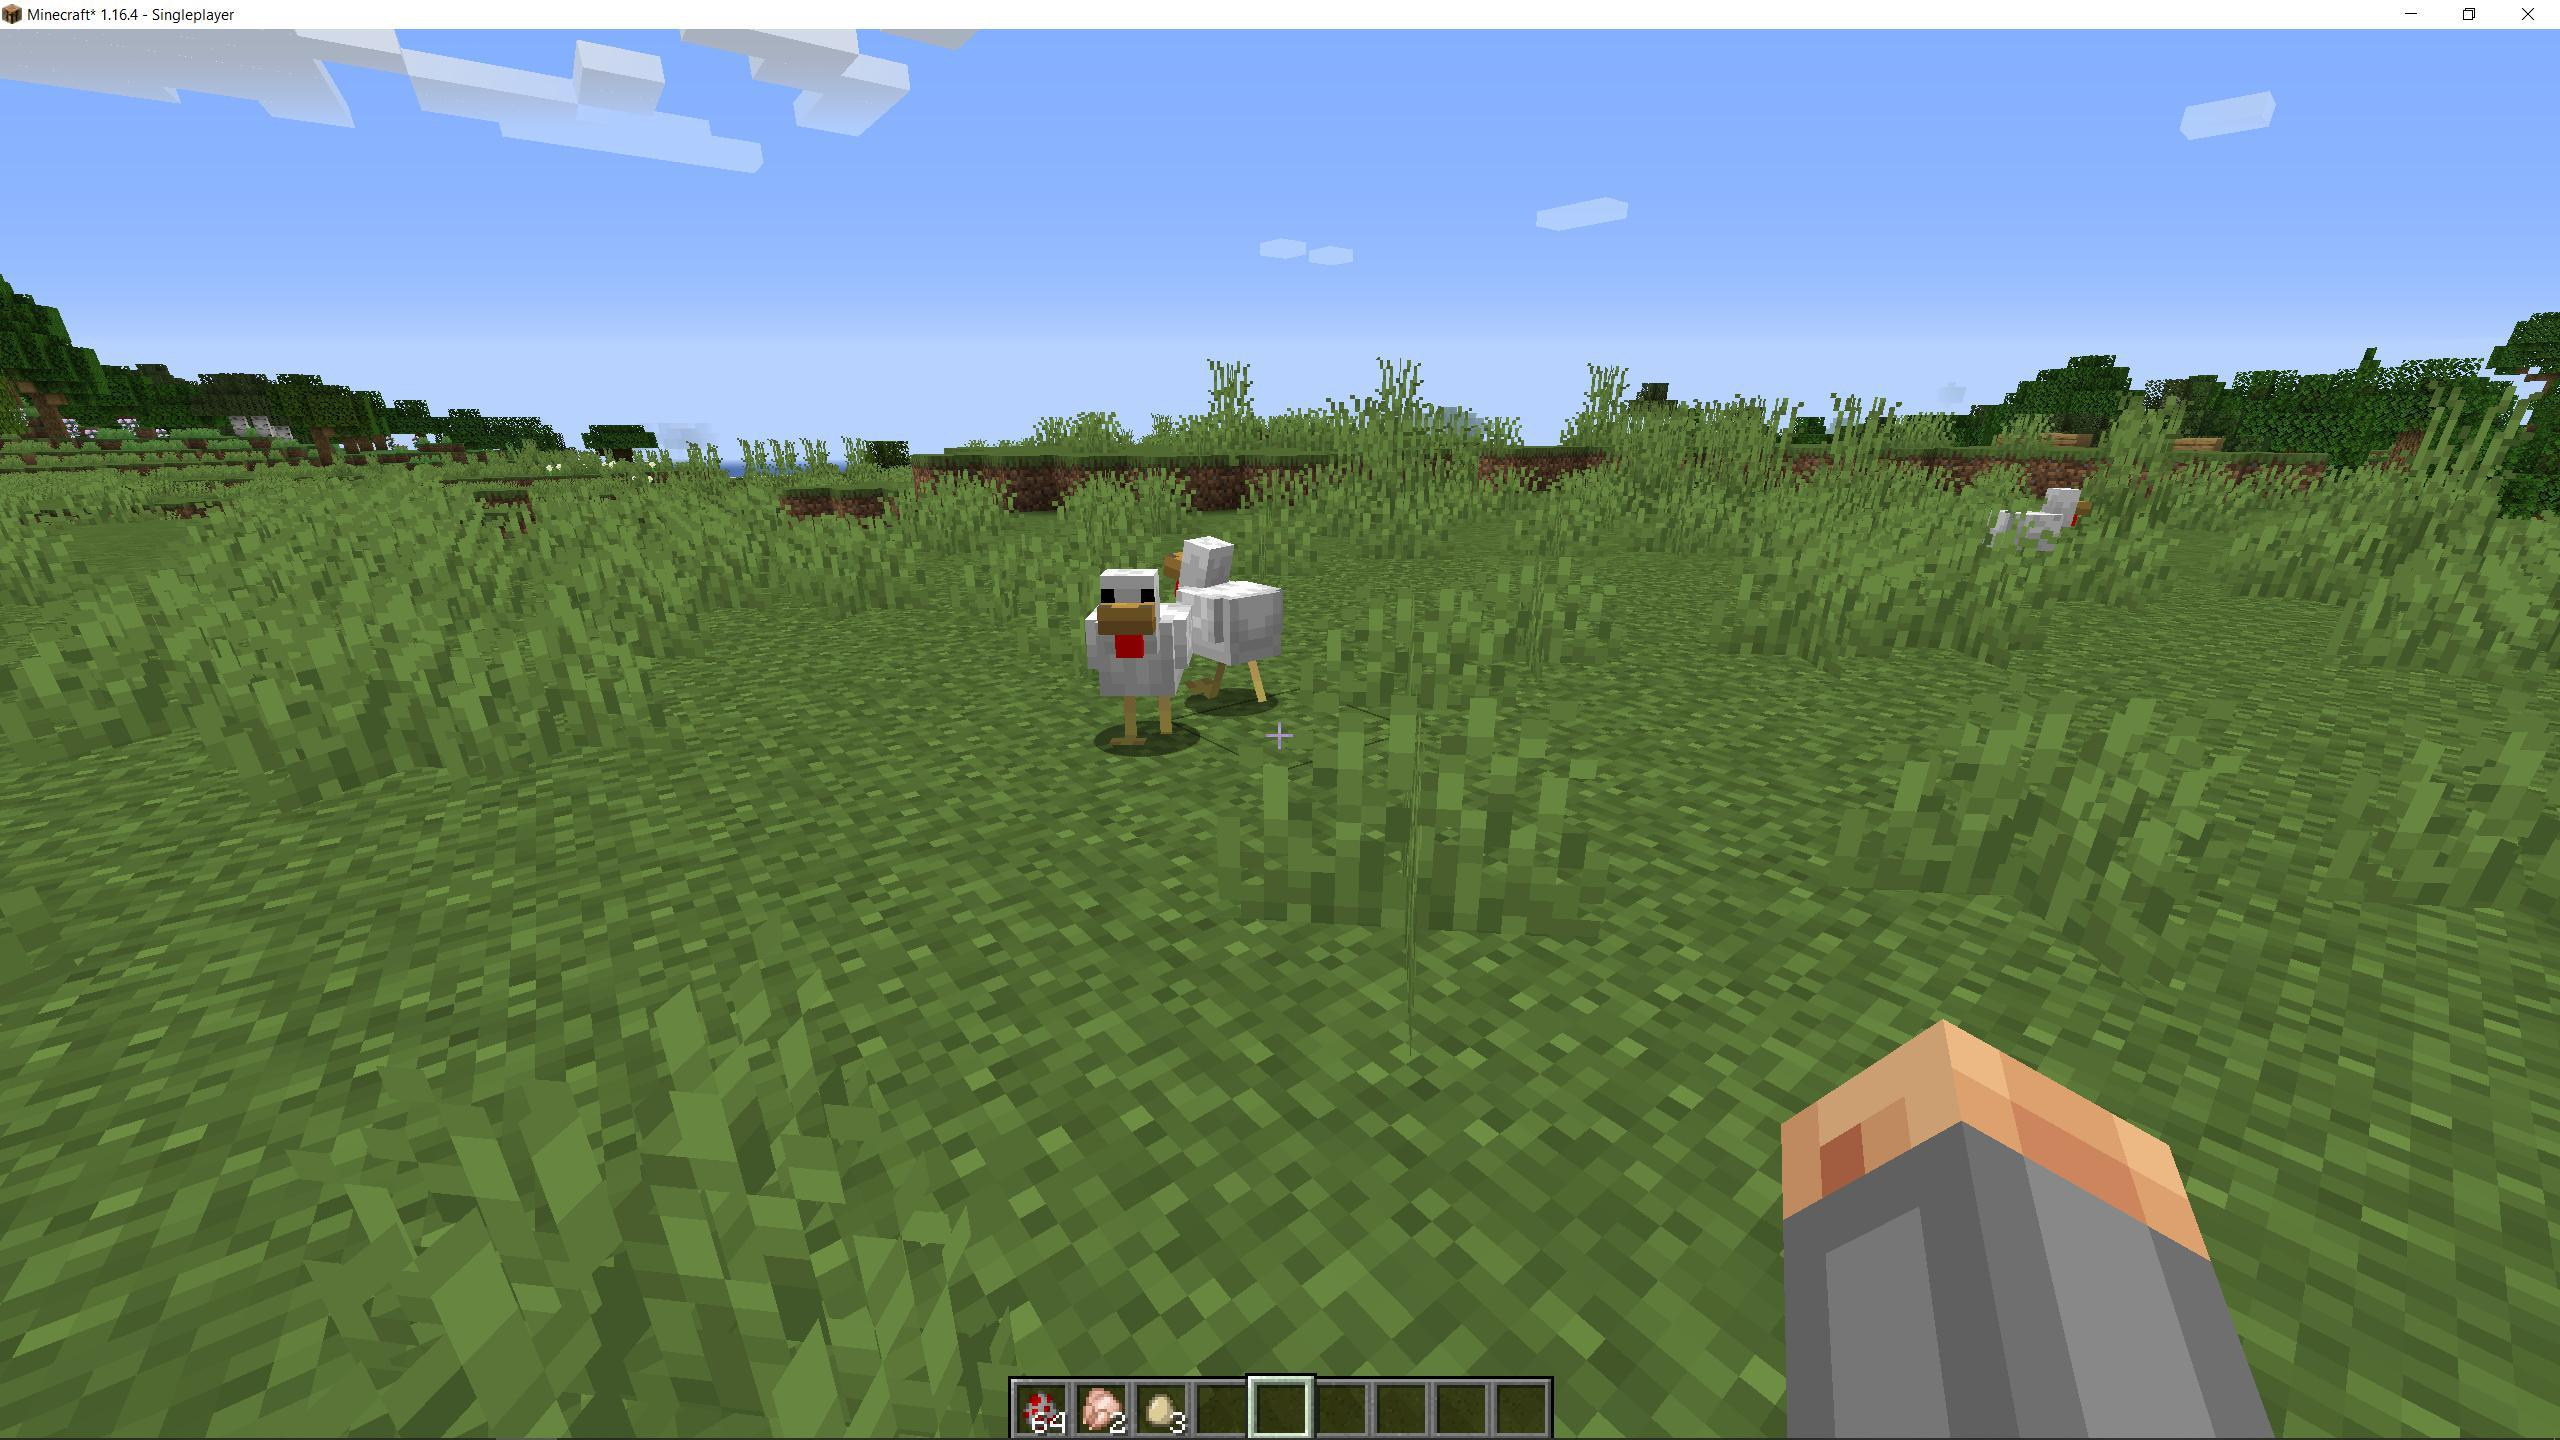chicken: (1166, 535, 1284, 721), (1074, 566, 1194, 744), (1982, 484, 2094, 608)
